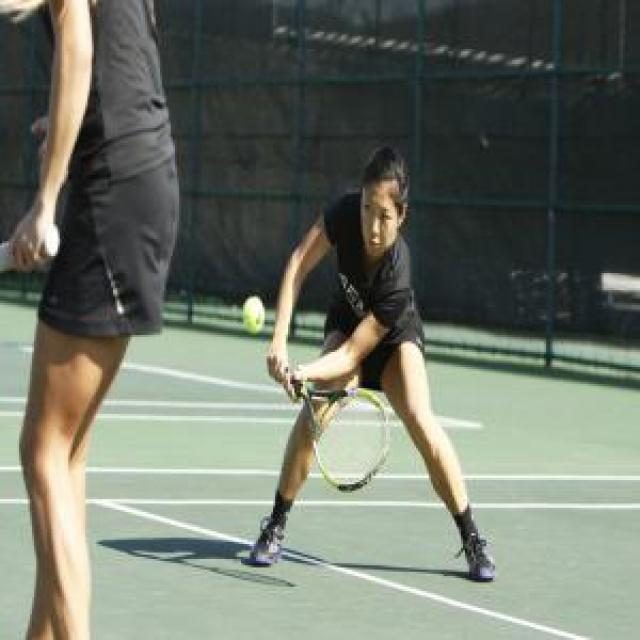Tennis-Ball: (238, 293, 266, 335)
